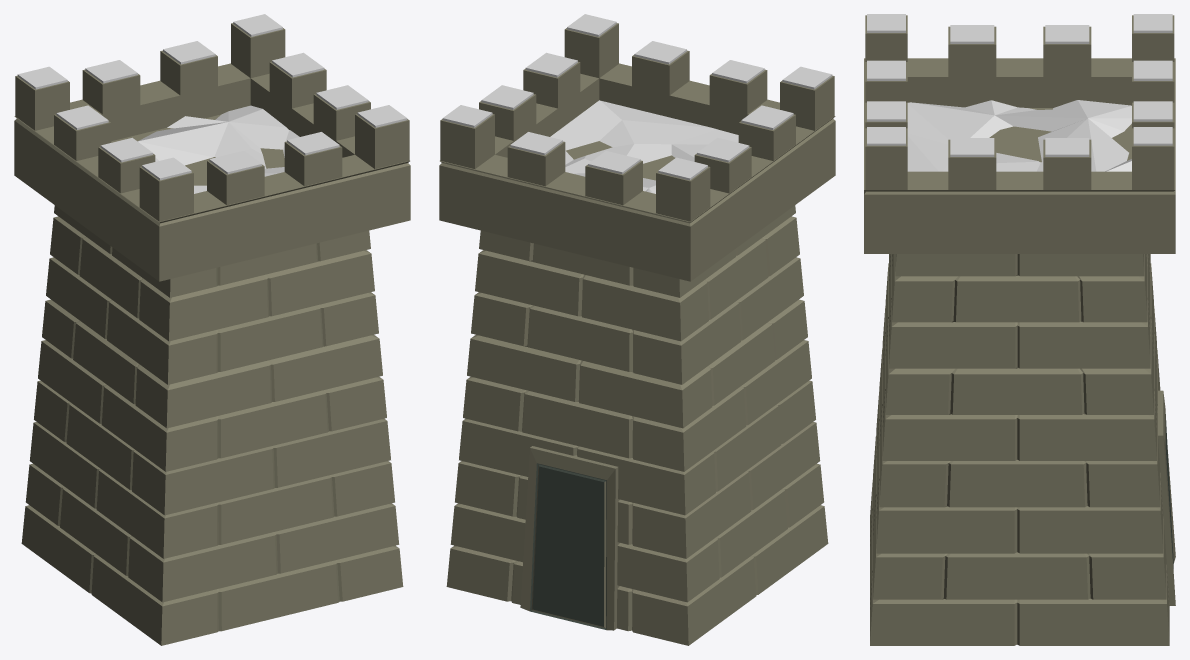
The model's file is GuardTower_3_lvl_snow_mat.fbx.
The picture shows the model from 3 angles, left to right: view 1: azimuth 30°, elevation 25°; view 2: azimuth 150°, elevation 25°; view 3: azimuth 270°, elevation 25°; orthographic projection. The views are drawn at different scales.
Parts seen in each view (by area): view 1: GuardTower_3_lvl_snow_mat; view 2: GuardTower_3_lvl_snow_mat; view 3: GuardTower_3_lvl_snow_mat.
Part boxes in pixels (bbox=[...]): GuardTower_3_lvl_snow_mat: bbox=[14, 14, 410, 645]; GuardTower_3_lvl_snow_mat: bbox=[439, 14, 835, 645]; GuardTower_3_lvl_snow_mat: bbox=[864, 14, 1175, 645].
Bounding box in the file's own units: 1.46 × 2.61 × 1.46.
